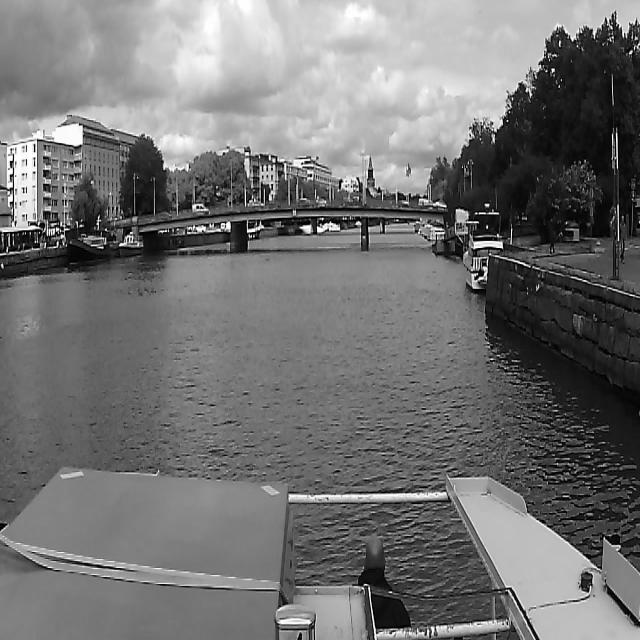ship: (462, 210, 502, 290), (69, 232, 110, 263), (119, 233, 144, 256)
